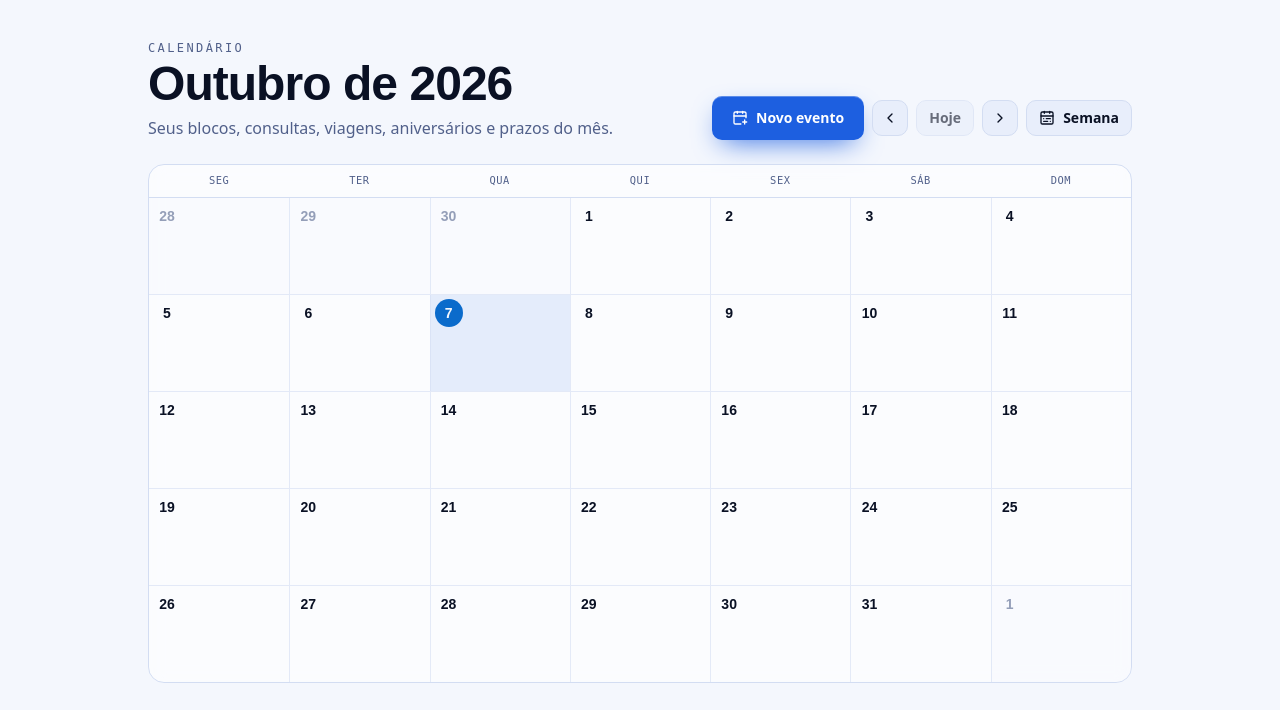
Test case: CalendarPage (visão mensal, RF34) › criar evento › "Novo evento" sugere o dia aberto
Click the button named "sexta-feira, 9 de outubro".
click(729, 313)  # box [715,299,743,327]
(page scrolled)
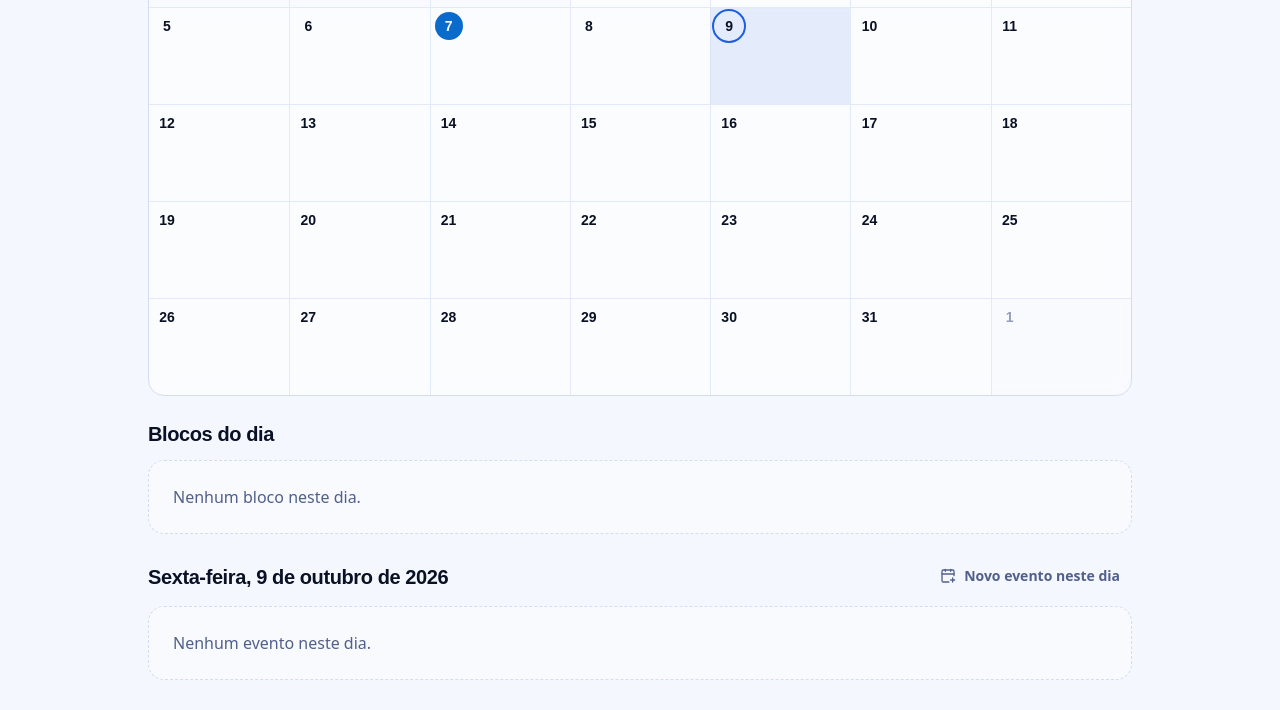
Click the button "Novo evento neste dia".
click(1030, 576)  # box [928,558,1132,594]
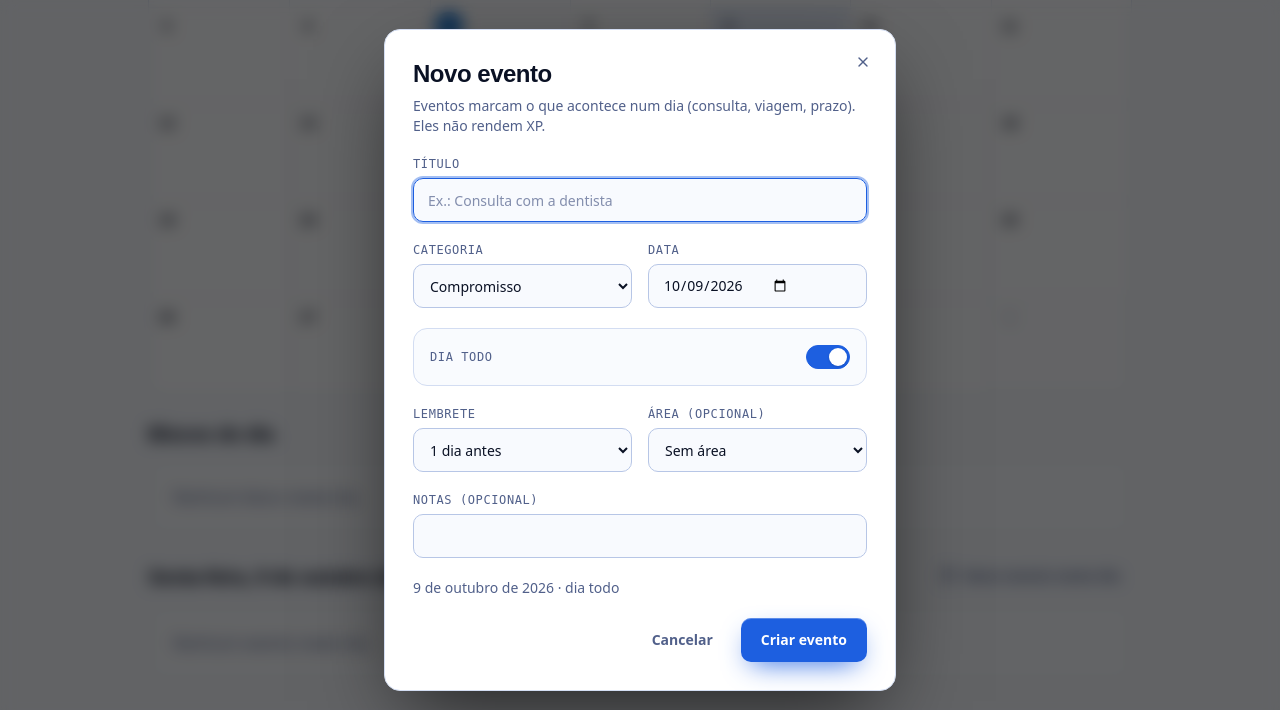
Result: the date field labelled "Data" holds "2026-10-09" at [648,264,867,308]
